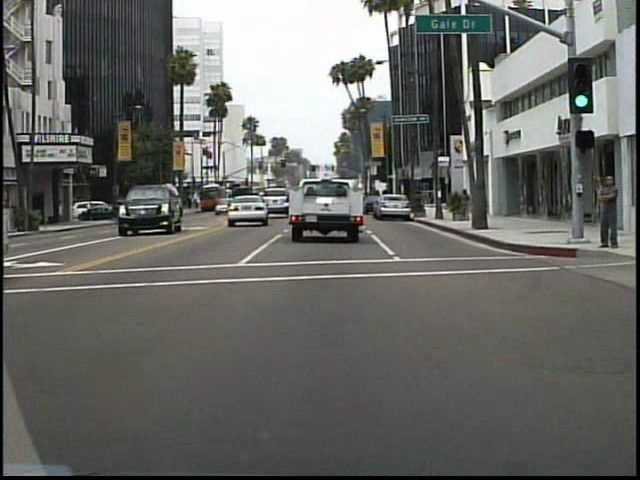person: (592, 167, 620, 256), (456, 185, 473, 220)
